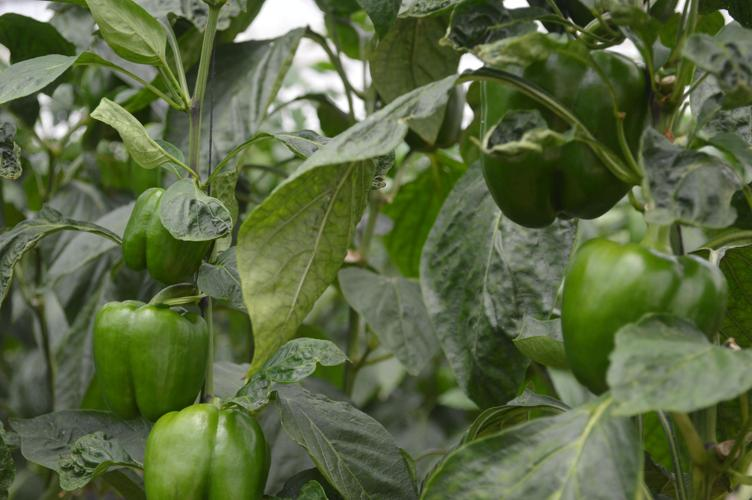BellPepper: (474, 39, 651, 232), (558, 240, 729, 394), (94, 303, 208, 415), (133, 404, 265, 497), (119, 191, 213, 283), (84, 135, 160, 190)
